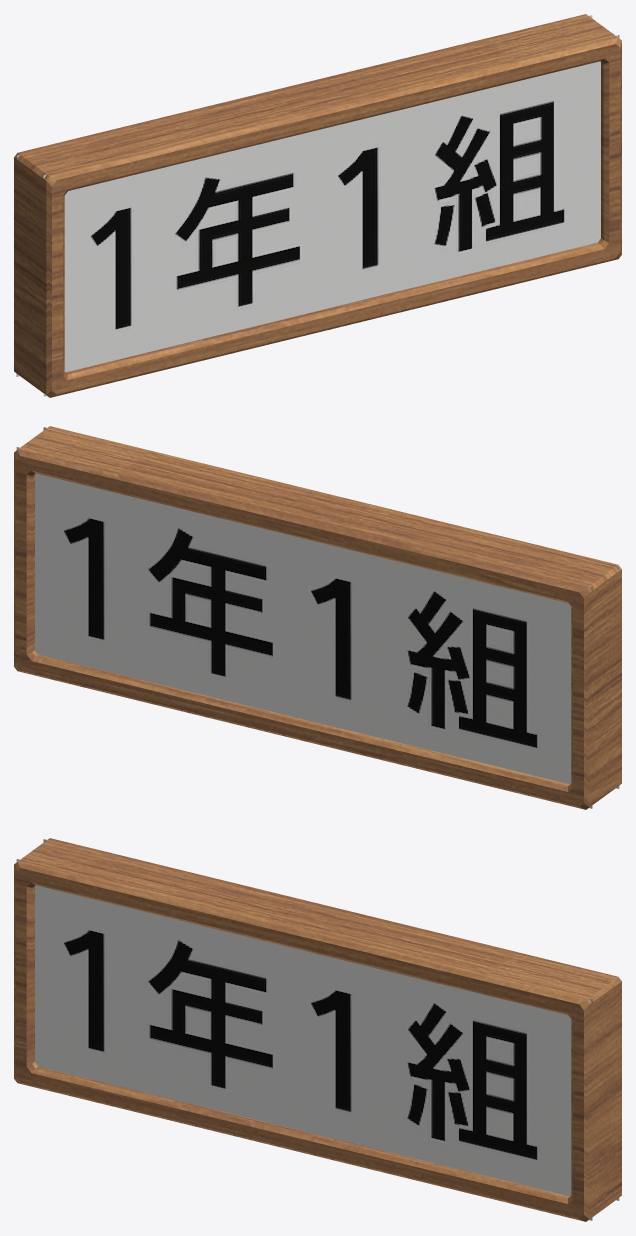
File: SM_sign_classroom_01.fbx
3 renders of one model, top to bottom at view 1: azimuth 30°, elevation 25°; view 2: azimuth 150°, elevation 25°; view 3: azimuth 330°, elevation 25°, orthographic.
Visible parts, largest first — view 1: sign_classroom06; view 2: sign_classroom06; view 3: sign_classroom06.
Part boxes in pixels (x1=…): sign_classroom06: x1=14, y1=14, x2=621, y2=397; sign_classroom06: x1=14, y1=426, x2=621, y2=809; sign_classroom06: x1=14, y1=838, x2=621, y2=1221.
Size of the model in its own units: 15.03 by 5.53 by 1.65.
Materials: 2 (2 with a texture image).
